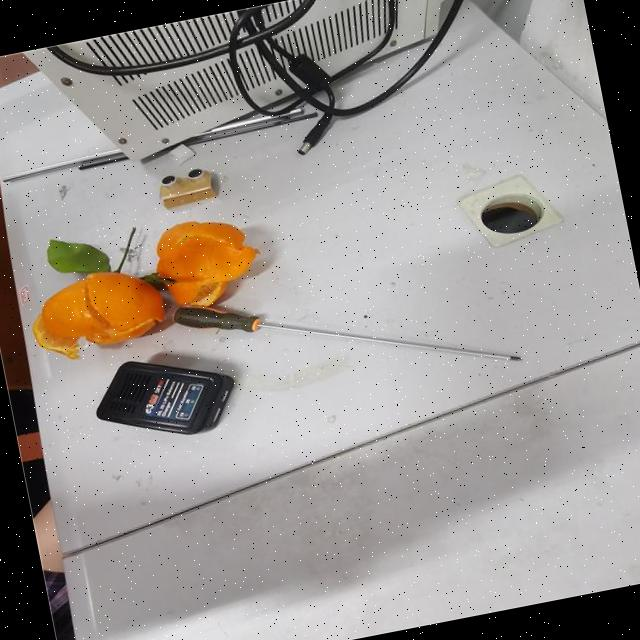orange-peel: (17, 206, 274, 366), (23, 258, 171, 364), (148, 208, 268, 316)
